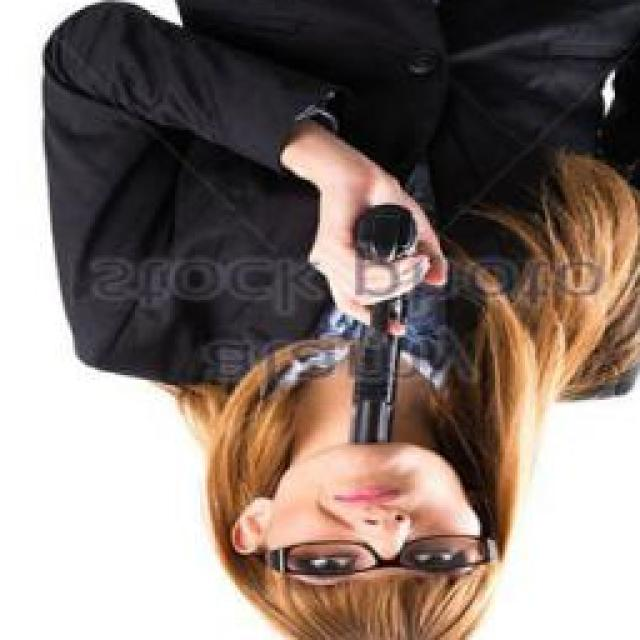pistol: (350, 207, 419, 442)
